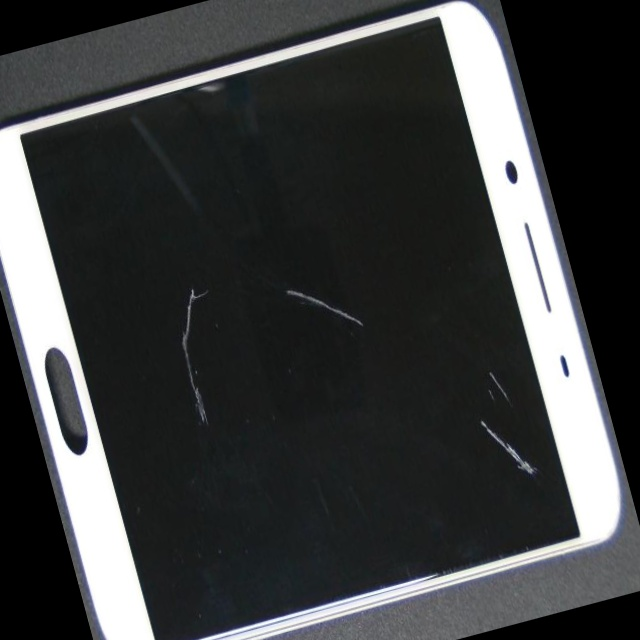scratch: (226, 75, 640, 639), (202, 137, 548, 484), (77, 110, 317, 397)
